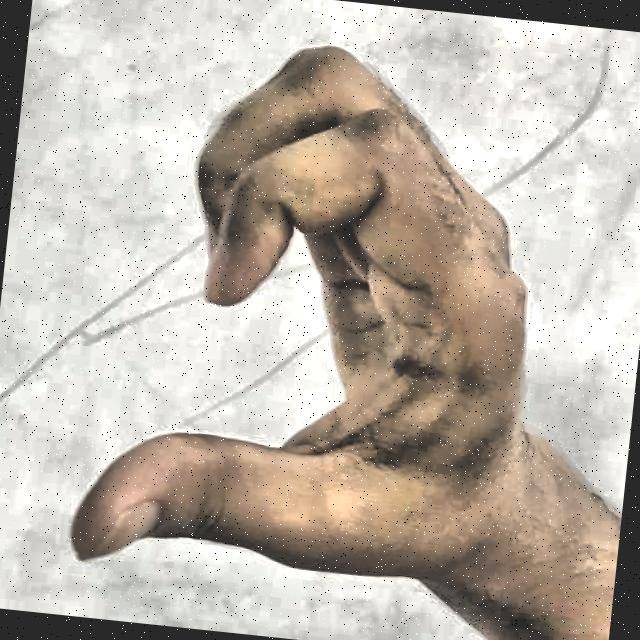Kha: (16, 0, 608, 640)
